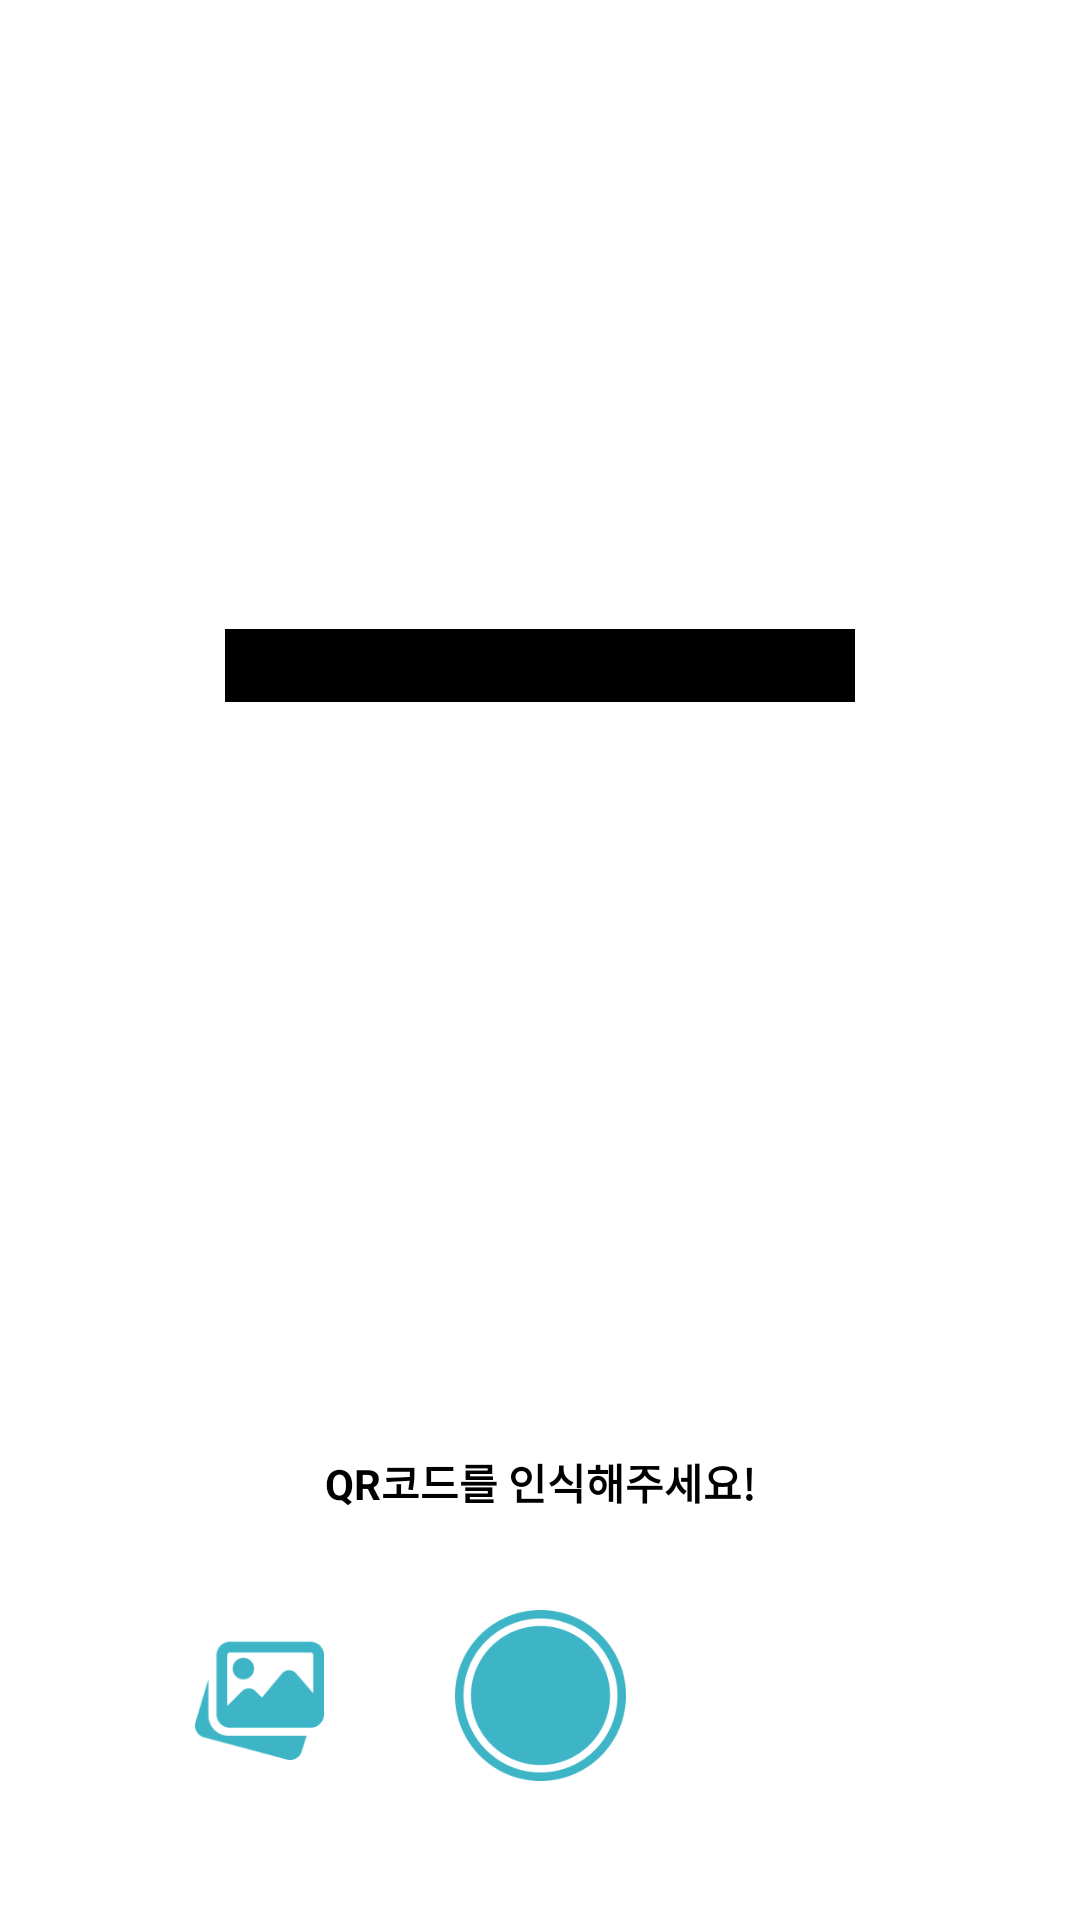

Named icons in this screenshot (1080px x 1920px) and their bounding boxes, (x1, y1, x2, y2):
camera activity: (455, 1610, 626, 1781)
get: (195, 1641, 324, 1760)
